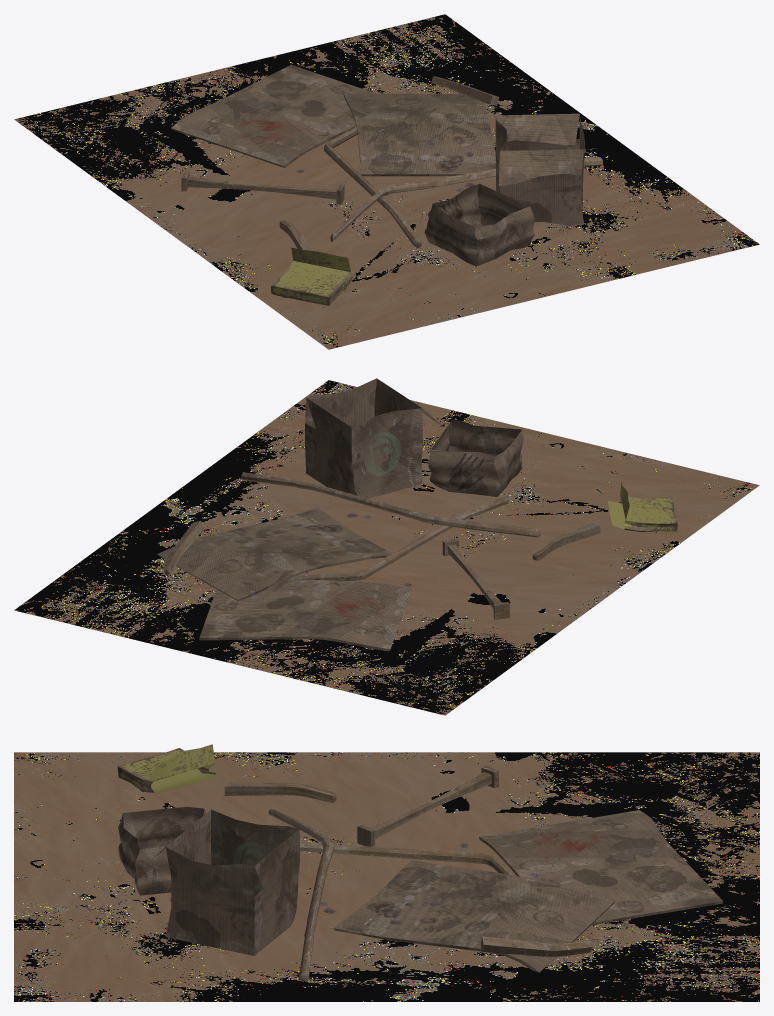
Rendered from SM_trash.fbx.
3 views of the same model, one above another, from view 1: azimuth 30°, elevation 25°; view 2: azimuth 150°, elevation 25°; view 3: azimuth 270°, elevation 25° (orthographic). The views are drawn at different scales.
Visible parts, largest first — view 1: SM_trash_LOD0; view 2: SM_trash_LOD0; view 3: SM_trash_LOD0.
Part boxes in pixels (x1,y1,x2,y2): SM_trash_LOD0: [14, 14, 759, 349]; SM_trash_LOD0: [14, 378, 759, 715]; SM_trash_LOD0: [14, 744, 759, 1001].
Bounding box in the file's own units: 178 × 225 × 31.06.
